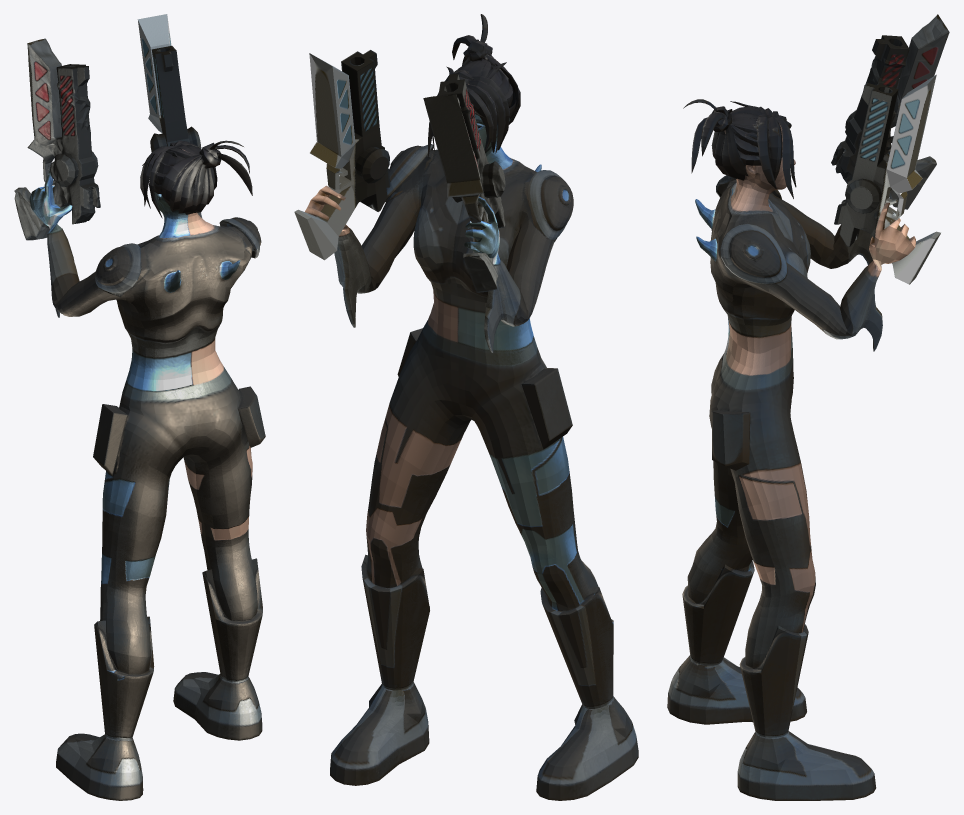
3 views of the same model, side by side, from view 1: azimuth 30°, elevation 25°; view 2: azimuth 150°, elevation 25°; view 3: azimuth 270°, elevation 25° (orthographic). The views are drawn at different scales.
Visible parts, largest first — view 1: Dex_LOW_Plane.001; view 2: Dex_LOW_Plane.001; view 3: Dex_LOW_Plane.001.
Part boxes in pixels (bbox=[...]): Dex_LOW_Plane.001: bbox=[14, 14, 265, 800]; Dex_LOW_Plane.001: bbox=[294, 14, 638, 800]; Dex_LOW_Plane.001: bbox=[667, 14, 949, 800].
Bounding box in the file's own units: 1.63 × 5.08 × 1.83.
